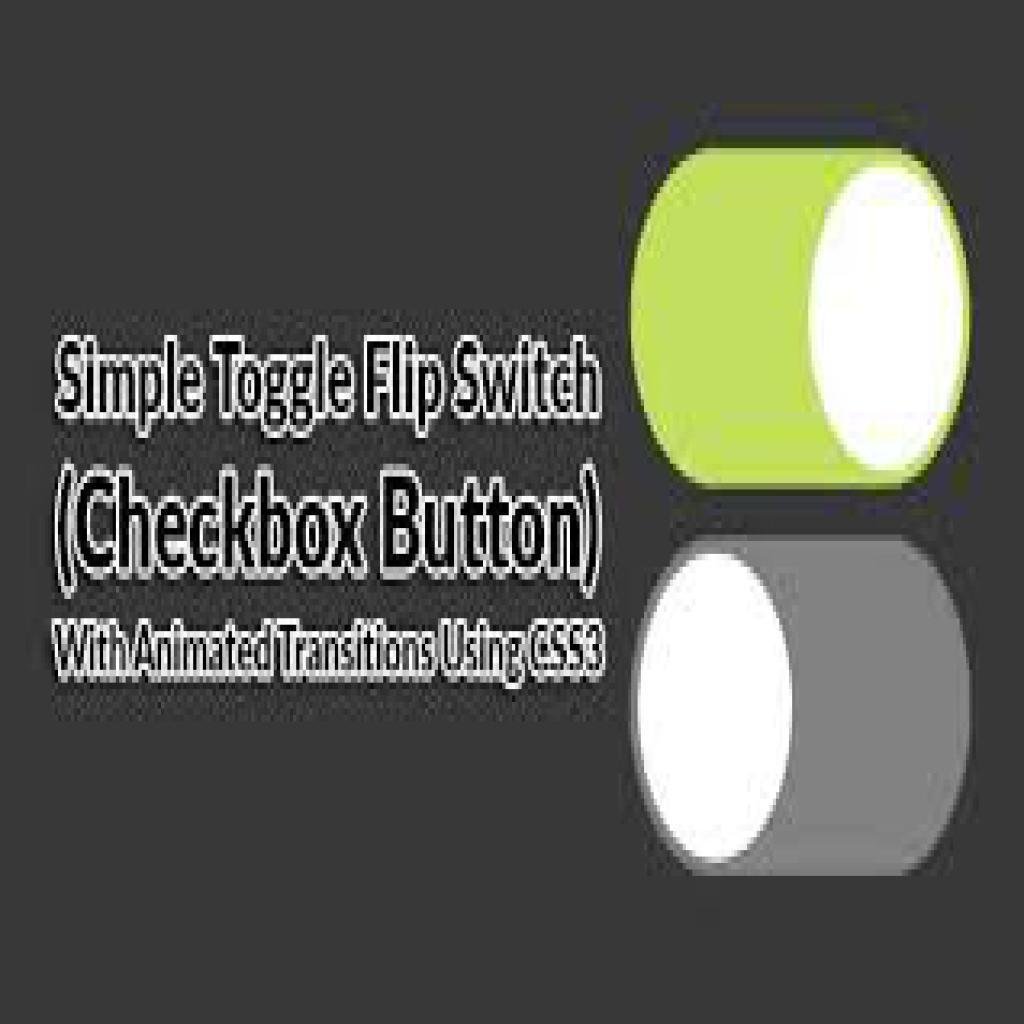switch: (624, 538, 973, 884), (632, 149, 968, 491)
